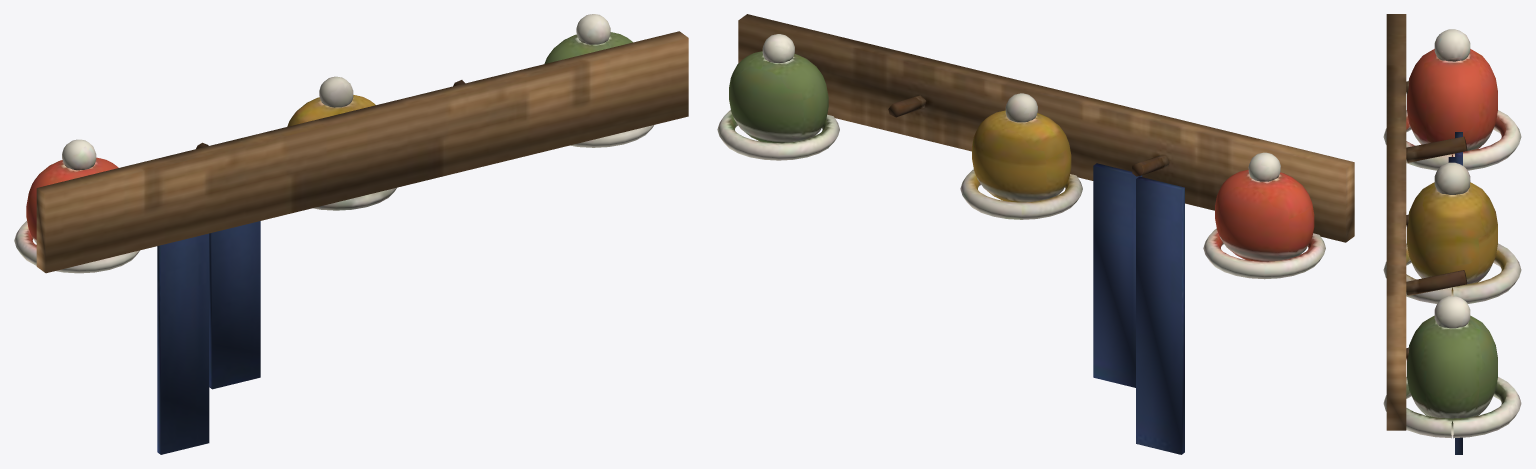
The model's file is hat_rack.glb.
The picture shows the model from 3 angles, left to right: view 1: azimuth 30°, elevation 25°; view 2: azimuth 150°, elevation 25°; view 3: azimuth 270°, elevation 25°; orthographic projection. The views are drawn at different scales.
Parts seen in each view (by area): view 1: prop_hat_rack_wood, prop_hat_rack_felt; view 2: prop_hat_rack_felt, prop_hat_rack_wood; view 3: prop_hat_rack_felt, prop_hat_rack_wood.
Boxes of the visible parts, x1=… form: prop_hat_rack_wood: x1=36, y1=31, x2=688, y2=273; prop_hat_rack_felt: x1=14, y1=14, x2=653, y2=454; prop_hat_rack_felt: x1=717, y1=34, x2=1325, y2=454; prop_hat_rack_wood: x1=738, y1=14, x2=1354, y2=242; prop_hat_rack_felt: x1=1383, y1=29, x2=1521, y2=454; prop_hat_rack_wood: x1=1386, y1=14, x2=1467, y2=430.
Size of the model in its own units: 2.4 by 1.19 by 0.42.
Materials: 2 (2 with a texture image).
